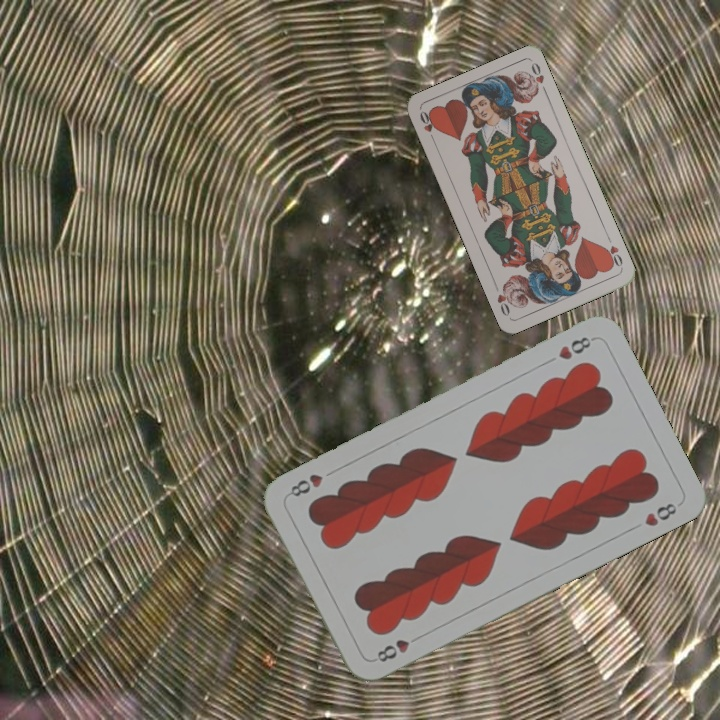H8: (373, 631, 424, 665), (554, 332, 597, 363)
HO: (600, 232, 625, 270), (415, 107, 439, 146)
